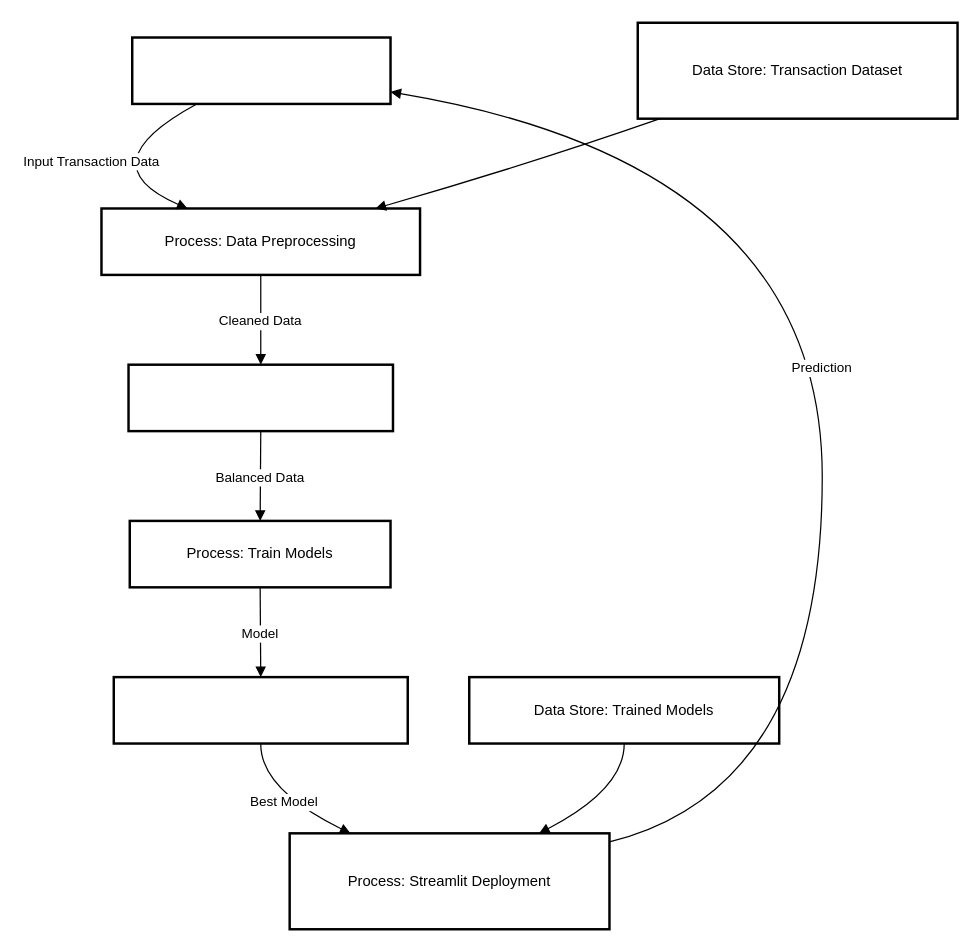
This 979x951 diagram has some shape labels left out. The shapes that lost their labels are listed below. From the top down, each one's centre as x and y in pixels, then its label:
At (x=260, y=70): "External Entity: User".
At (x=260, y=397): "Process: Apply SMOTE".
At (x=260, y=709): "Process: Evaluate Models".
